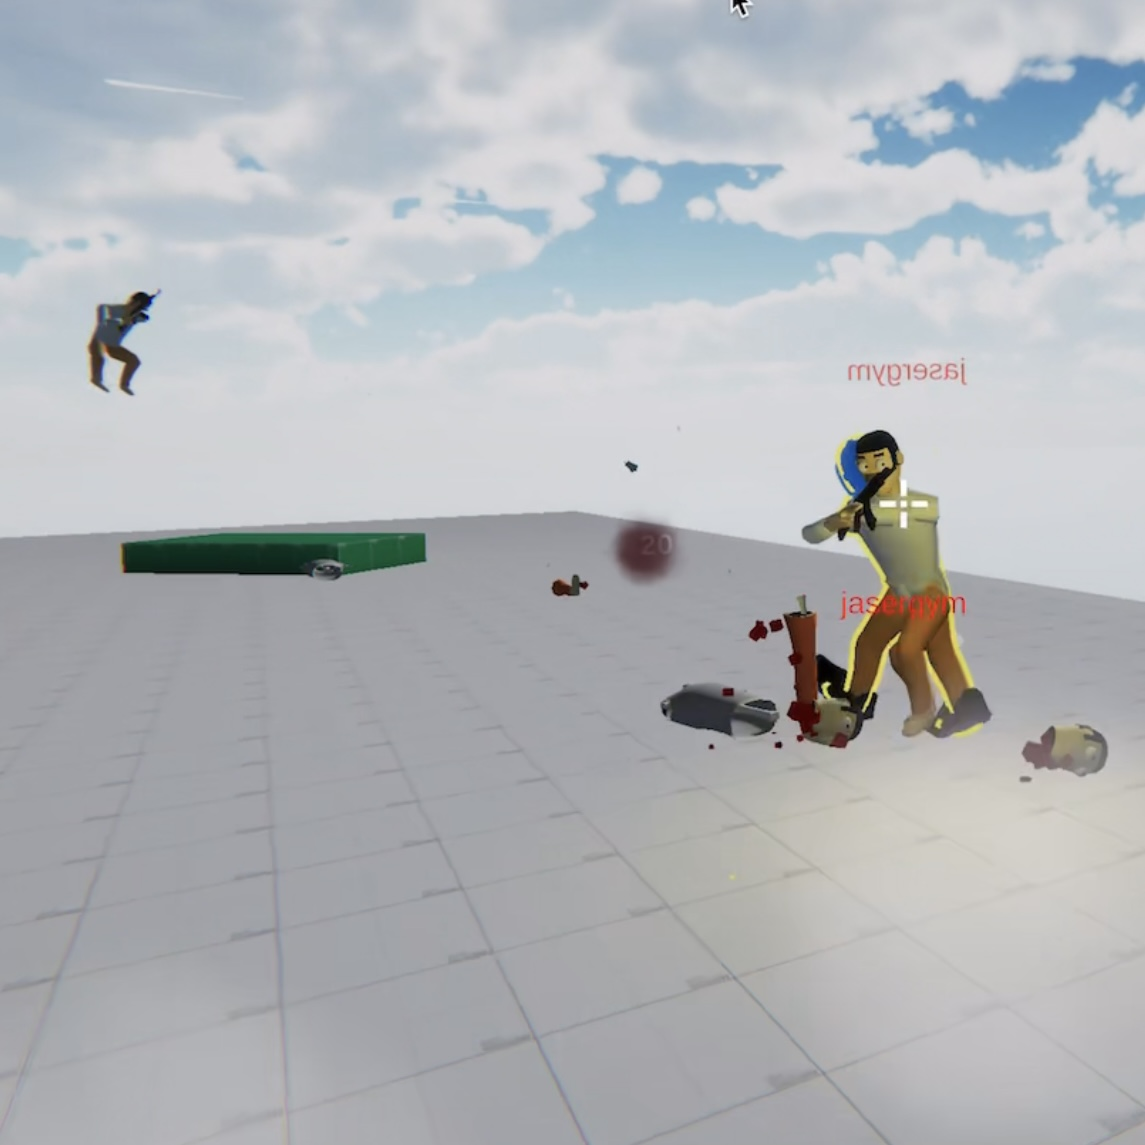human: (842, 410, 976, 743), (87, 268, 144, 405)
